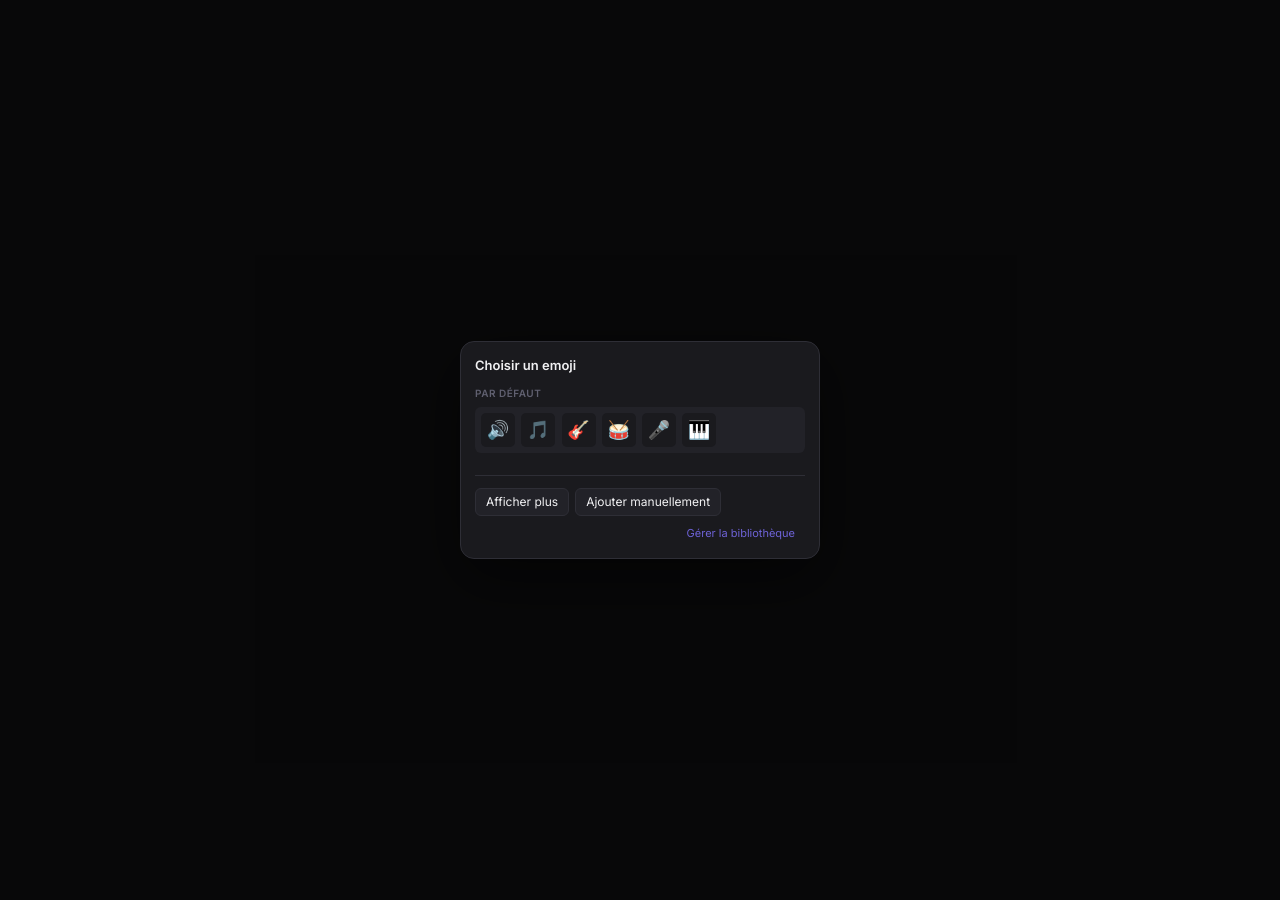
Test case: EmojiPicker > Show more/less › clic "Afficher moins" repasse en mode collapsed
Click the button with test id "emoji-picker-show-more-button" at (522, 502), box [475,488,569,516]
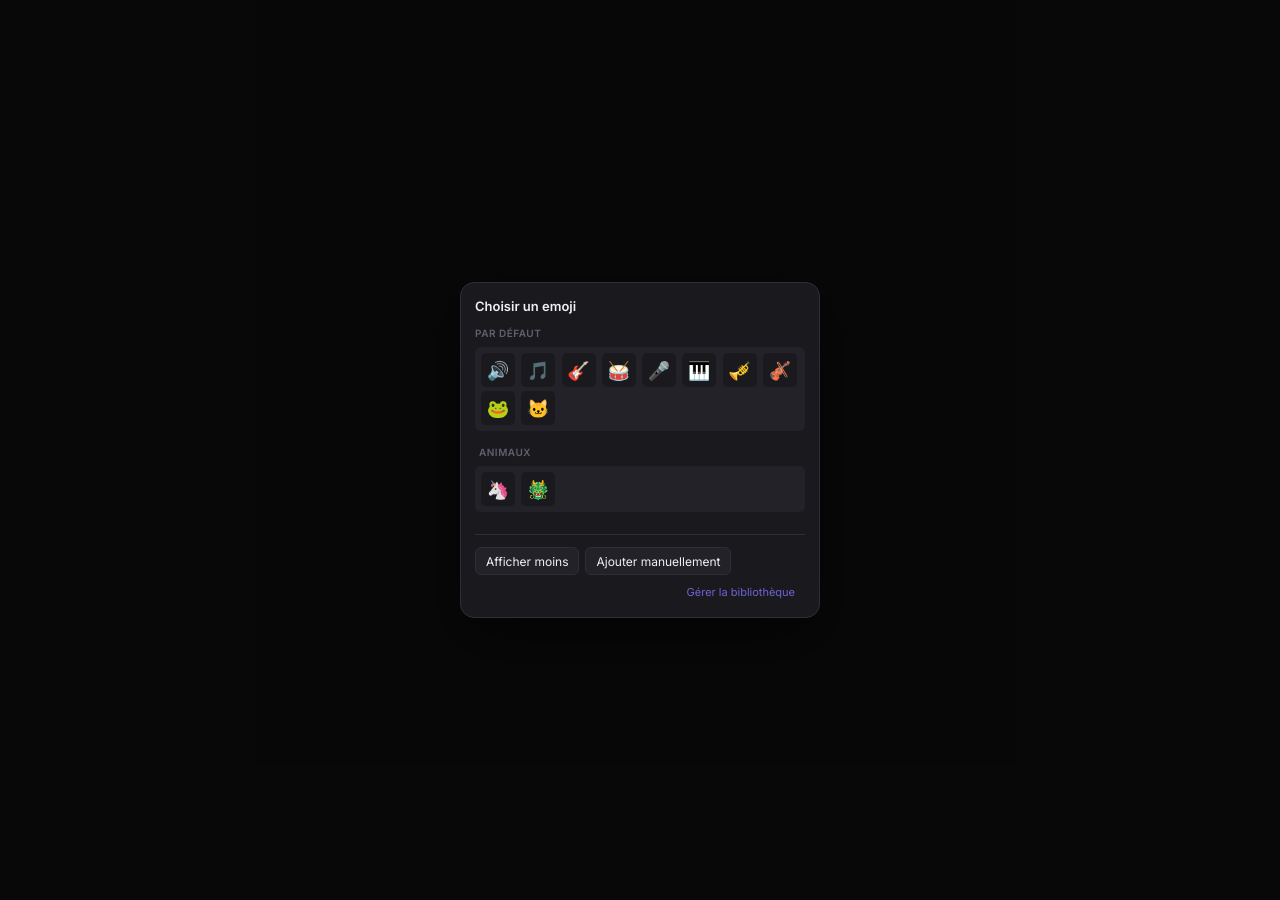
Click the button with test id "emoji-picker-show-less-button" at (527, 561), box [475,547,580,575]
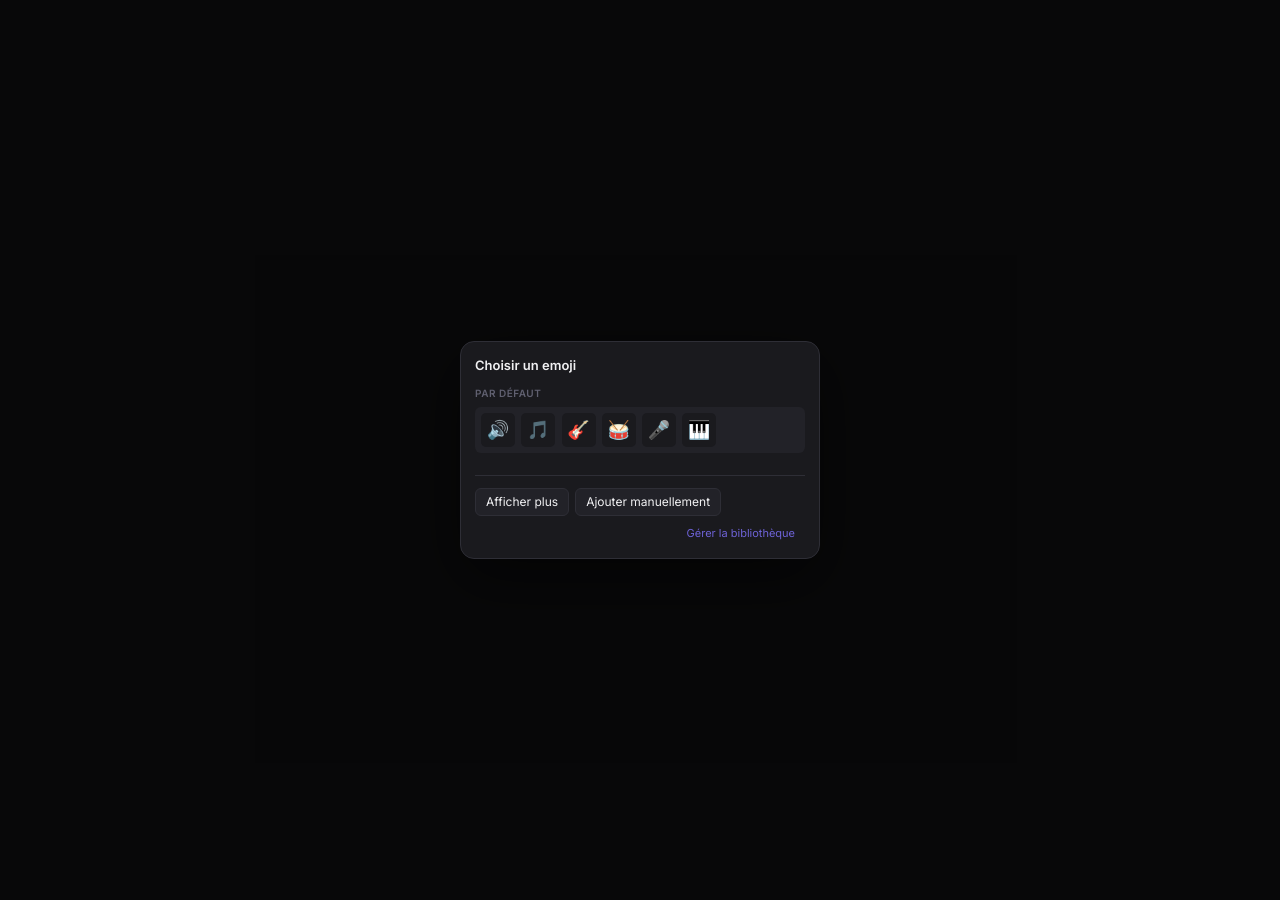
expect the button with test id "emoji-picker-show-more-button" is shown: met, box [475,488,569,516]
